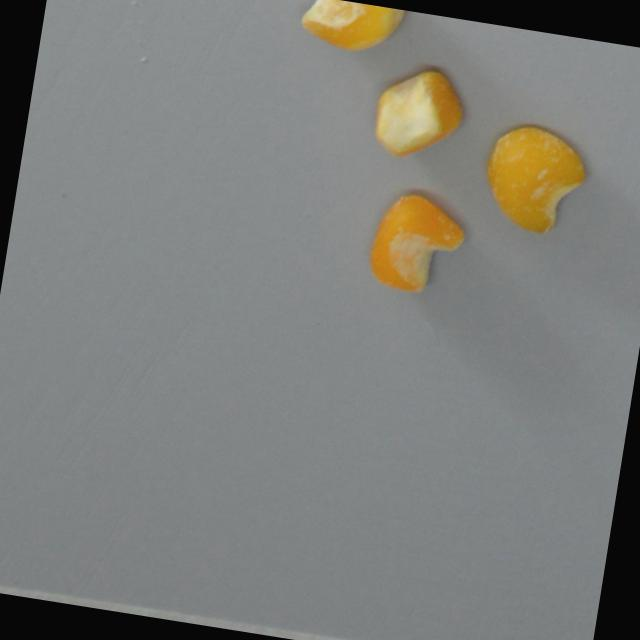no_desgerminado: (367, 59, 472, 169)
pelicula: (475, 116, 595, 241), (362, 187, 472, 302), (295, 0, 408, 60)
